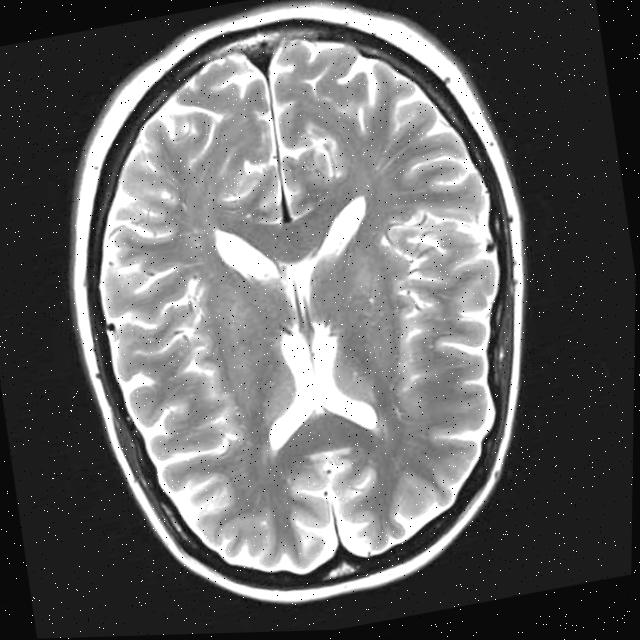NoTumor: (50, 0, 551, 611)
